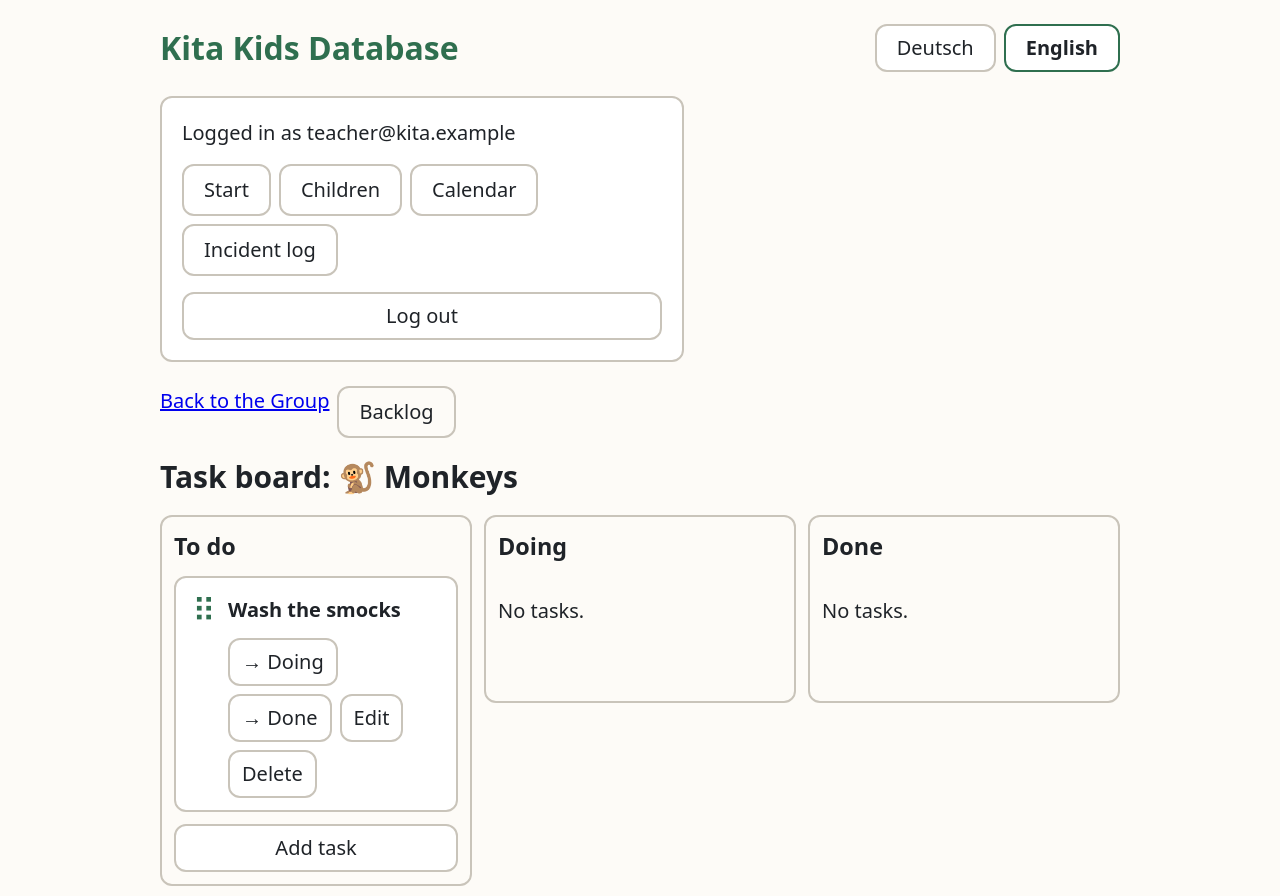
Test case: Backlog › lets staff give a Task to someone in the Group, with a due date and labels
Click the button with aria-label "Change Wash the smocks": (371, 718) [340,694,403,742]
(page scrolled)
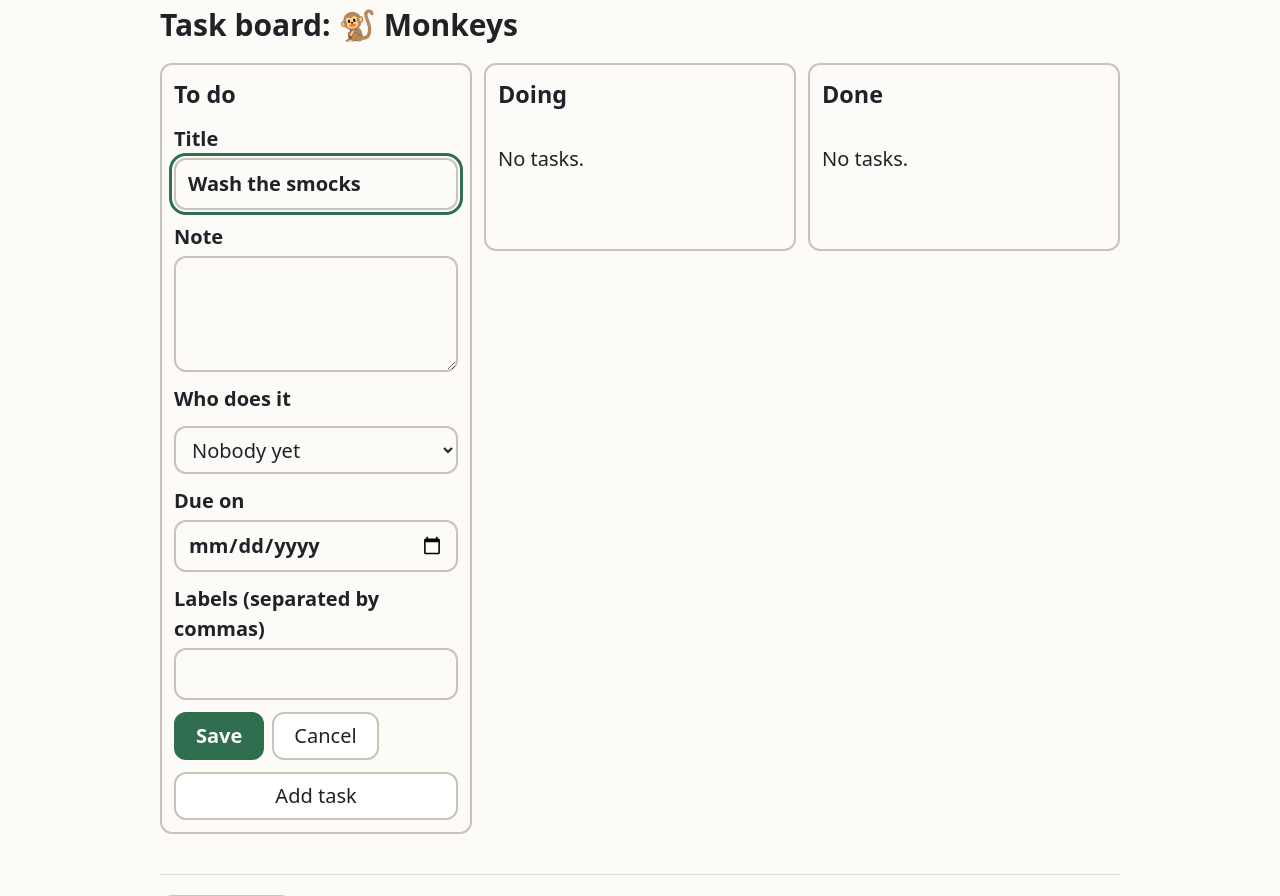
Select "teacher@kita.example" in the dropdown labelled "Who does it": (316, 450) [174,426,458,474]
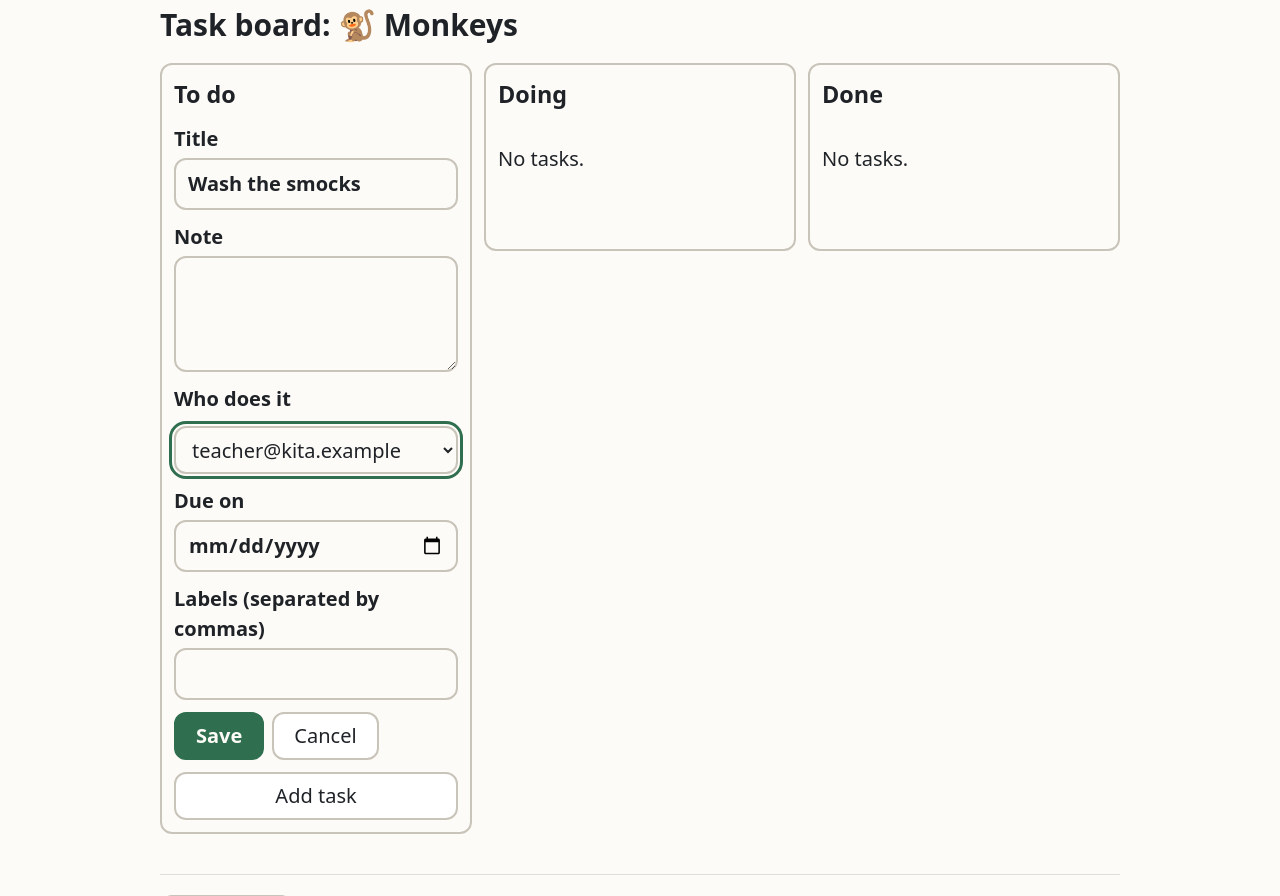
In the date field labelled "Due on": (316, 546) [174,520,458,572], type "2027-01-15"
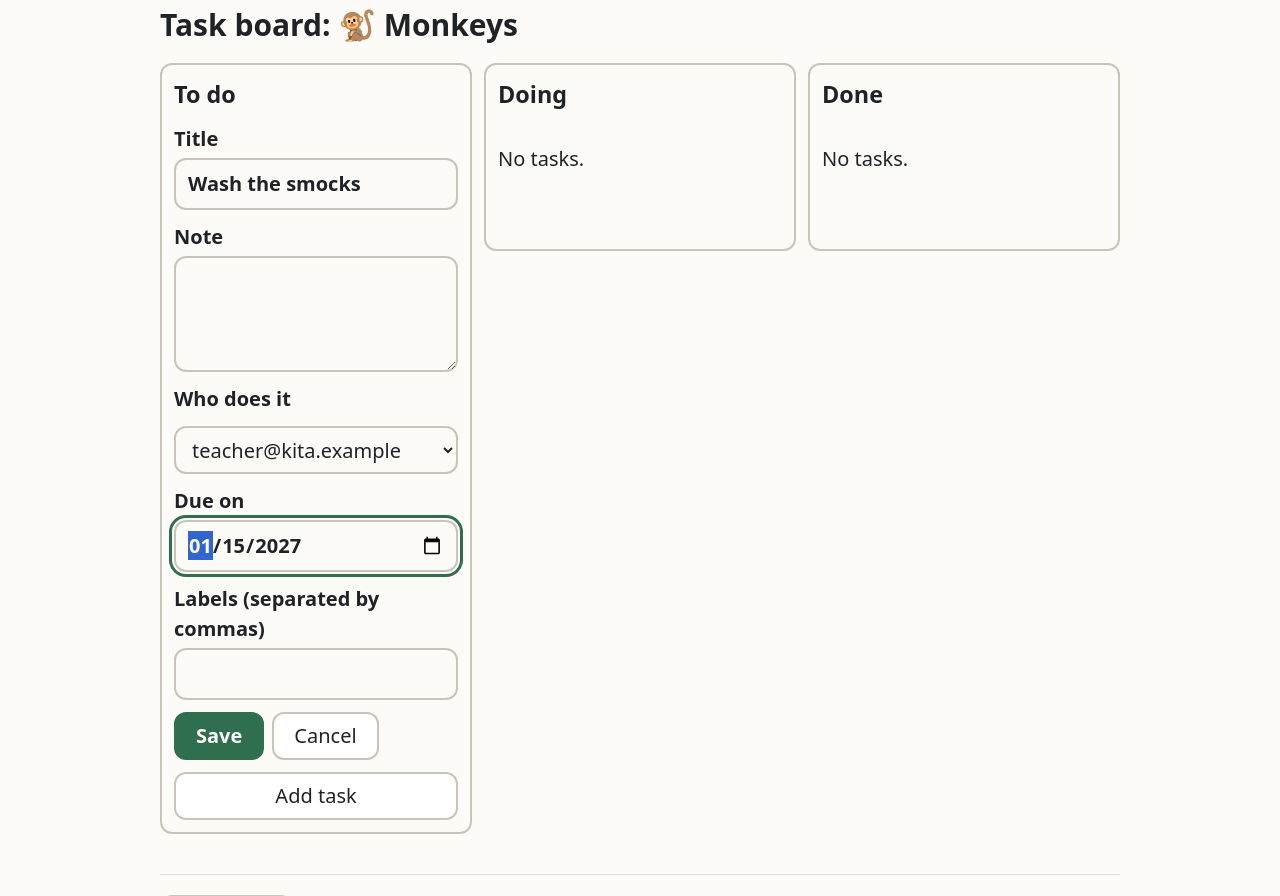
In the field labelled "Labels (separated by commas)": (316, 674) [174,648,458,700], type "Laundry, Art"
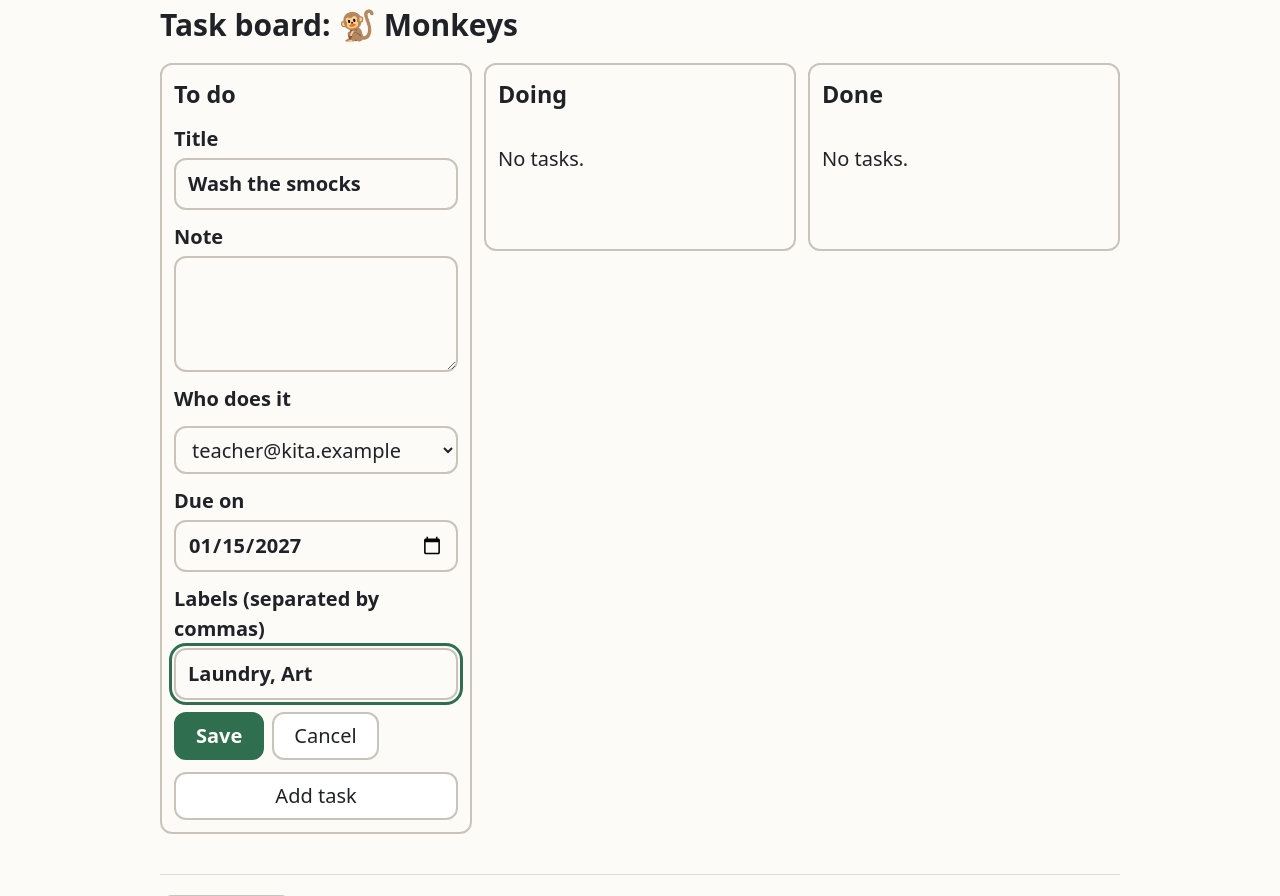
Click the button "Save": (219, 736) [174,712,264,760]
(page scrolled)
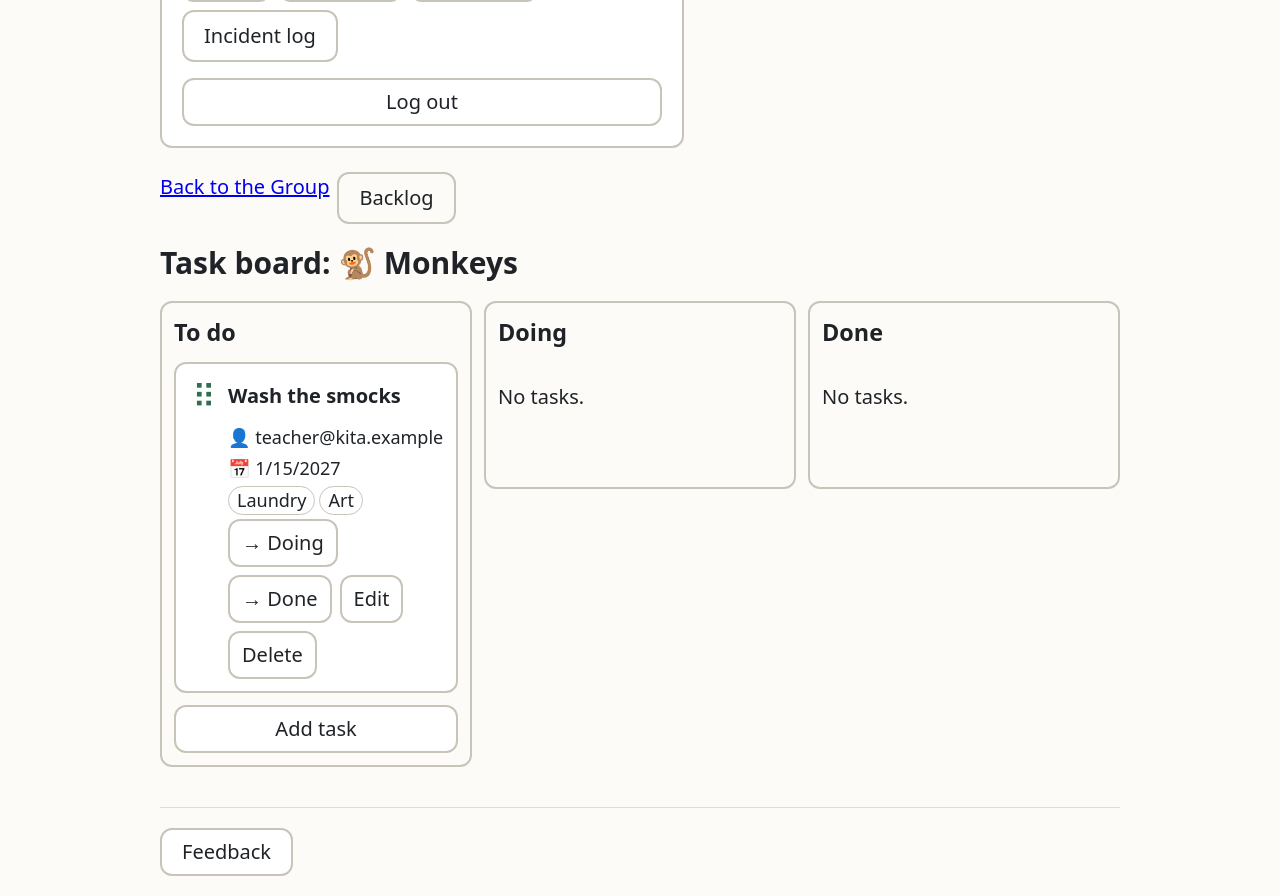
Expected: the list item "teacher@kita.example" does not show "Overdue", [174,362,458,693]
Expected: the list item "teacher@kita.example" shows "Laundry", [237,488,306,512]
